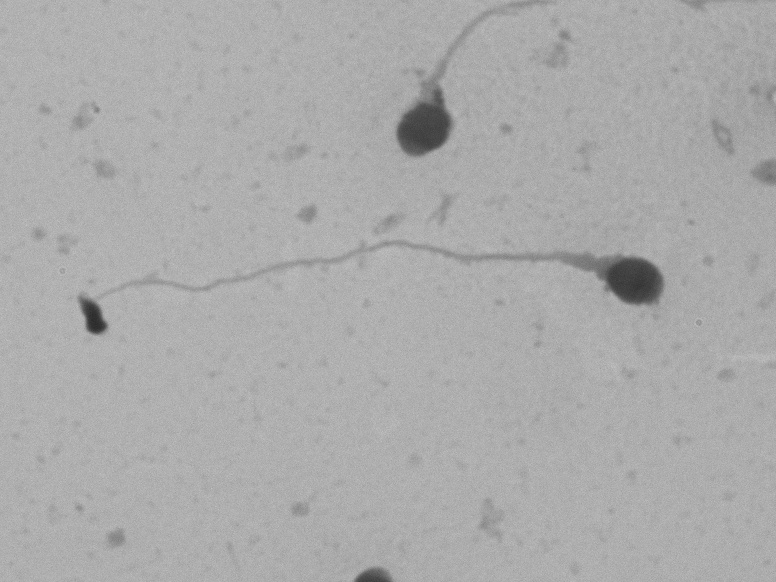Abnormal: (99, 209, 678, 375), (332, 8, 517, 172)
